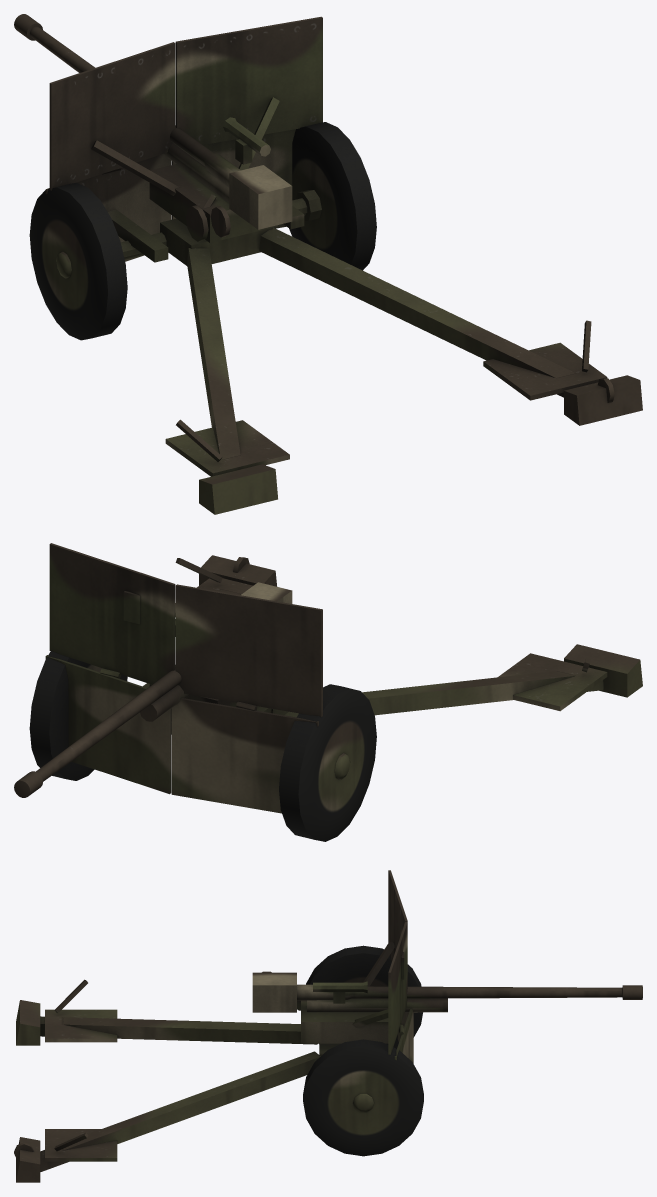
File: WZ36_BOFORS.fbx
3 views of the same model, one above another, from view 1: azimuth 30°, elevation 25°; view 2: azimuth 150°, elevation 25°; view 3: azimuth 270°, elevation 25° (orthographic). The views are drawn at different scales.
Parts seen in each view (by area): view 1: Tourelle_01, Bras_Droit, Roue_G1, Bras_Gauche, Roue_D1, Axe_Canon_01, Chassis, Canon_01; view 2: Tourelle_01, Roue_G1, Bras_Gauche, Roue_D1, Canon_01, Bras_Droit, Axe_Canon_01; view 3: Roue_D1, Bras_Droit, Bras_Gauche, Tourelle_01, Axe_Canon_01, Canon_01, Roue_G1.
Part boxes in pixels (x1=…): Tourelle_01: x1=45, y1=16, x2=322, y2=261; Bras_Droit: x1=259, y1=227, x2=642, y2=425; Roue_G1: x1=29, y1=182, x2=127, y2=340; Bras_Gauche: x1=165, y1=248, x2=289, y2=514; Roue_D1: x1=289, y1=122, x2=376, y2=270; Axe_Canon_01: x1=164, y1=117, x2=292, y2=241; Chassis: x1=108, y1=190, x2=321, y2=265; Canon_01: x1=14, y1=14, x2=240, y2=186; Tourelle_01: x1=45, y1=543, x2=322, y2=813; Roue_G1: x1=279, y1=684, x2=376, y2=841; Bras_Gauche: x1=271, y1=644, x2=642, y2=715; Roue_D1: x1=29, y1=650, x2=127, y2=780; Canon_01: x1=14, y1=667, x2=181, y2=797; Bras_Droit: x1=175, y1=555, x2=277, y2=616; Axe_Canon_01: x1=140, y1=582, x2=292, y2=721; Roue_D1: x1=303, y1=1039, x2=423, y2=1156; Bras_Droit: x1=14, y1=1051, x2=320, y2=1182; Bras_Gauche: x1=16, y1=979, x2=317, y2=1045; Tourelle_01: x1=301, y1=870, x2=413, y2=1063; Axe_Canon_01: x1=252, y1=971, x2=447, y2=1012; Canon_01: x1=297, y1=984, x2=642, y2=1000; Roue_G1: x1=306, y1=945, x2=422, y2=1048.
Size of the model in its own units: 189 by 312 by 101.
1 material, 1 textured.
